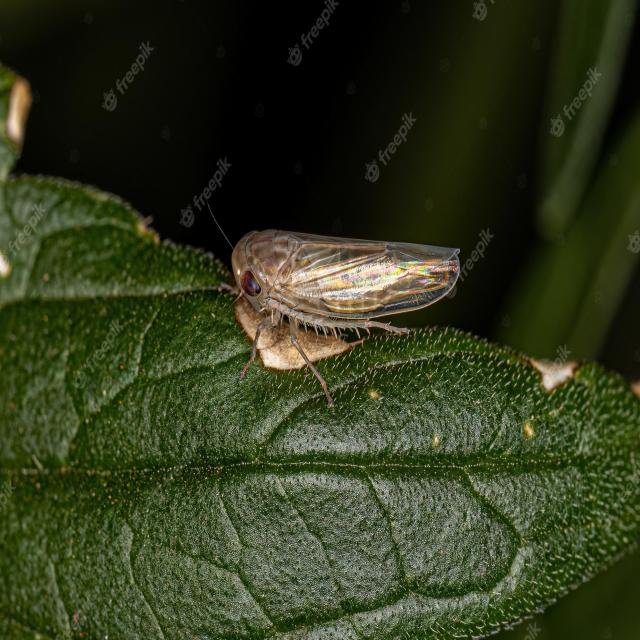Yechan: (224, 208, 478, 350)
